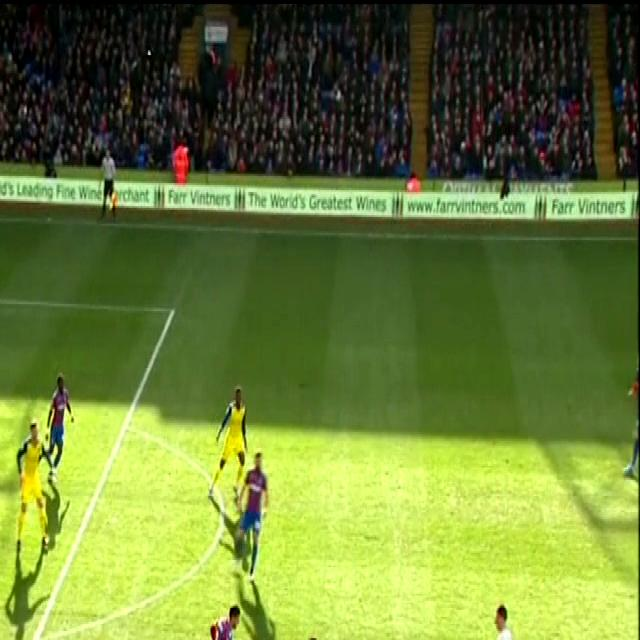referee: (474, 585, 556, 640), (475, 588, 516, 640), (96, 149, 116, 221)
soccer-player: (4, 414, 57, 559), (236, 438, 273, 592), (207, 374, 244, 509), (45, 363, 78, 477), (196, 597, 252, 640), (299, 622, 345, 640)
